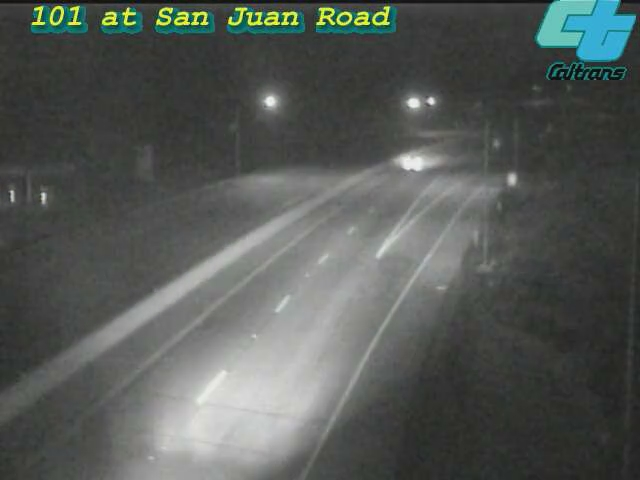vehicle: (375, 123, 455, 203)
